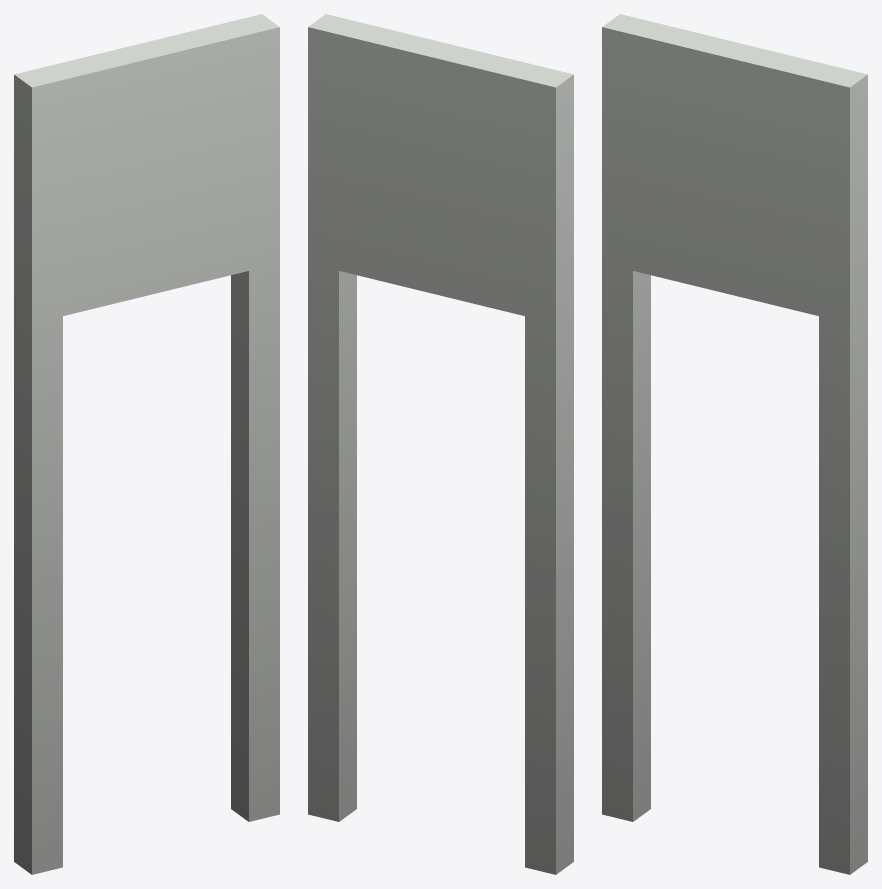
File: Doorway_Rectangular_1x3.fbx
3 views of the same model, side by side, from view 1: azimuth 30°, elevation 25°; view 2: azimuth 150°, elevation 25°; view 3: azimuth 330°, elevation 25° (orthographic).
Parts seen in each view (by area): view 1: Doorway_Rectangular_1x3; view 2: Doorway_Rectangular_1x3; view 3: Doorway_Rectangular_1x3.
Part boxes in pixels (x1,y1,x2,y2): Doorway_Rectangular_1x3: (14, 14, 279, 874); Doorway_Rectangular_1x3: (308, 14, 573, 874); Doorway_Rectangular_1x3: (602, 14, 867, 874).
Bounding box in the file's own units: 100 × 304 × 12.5.
